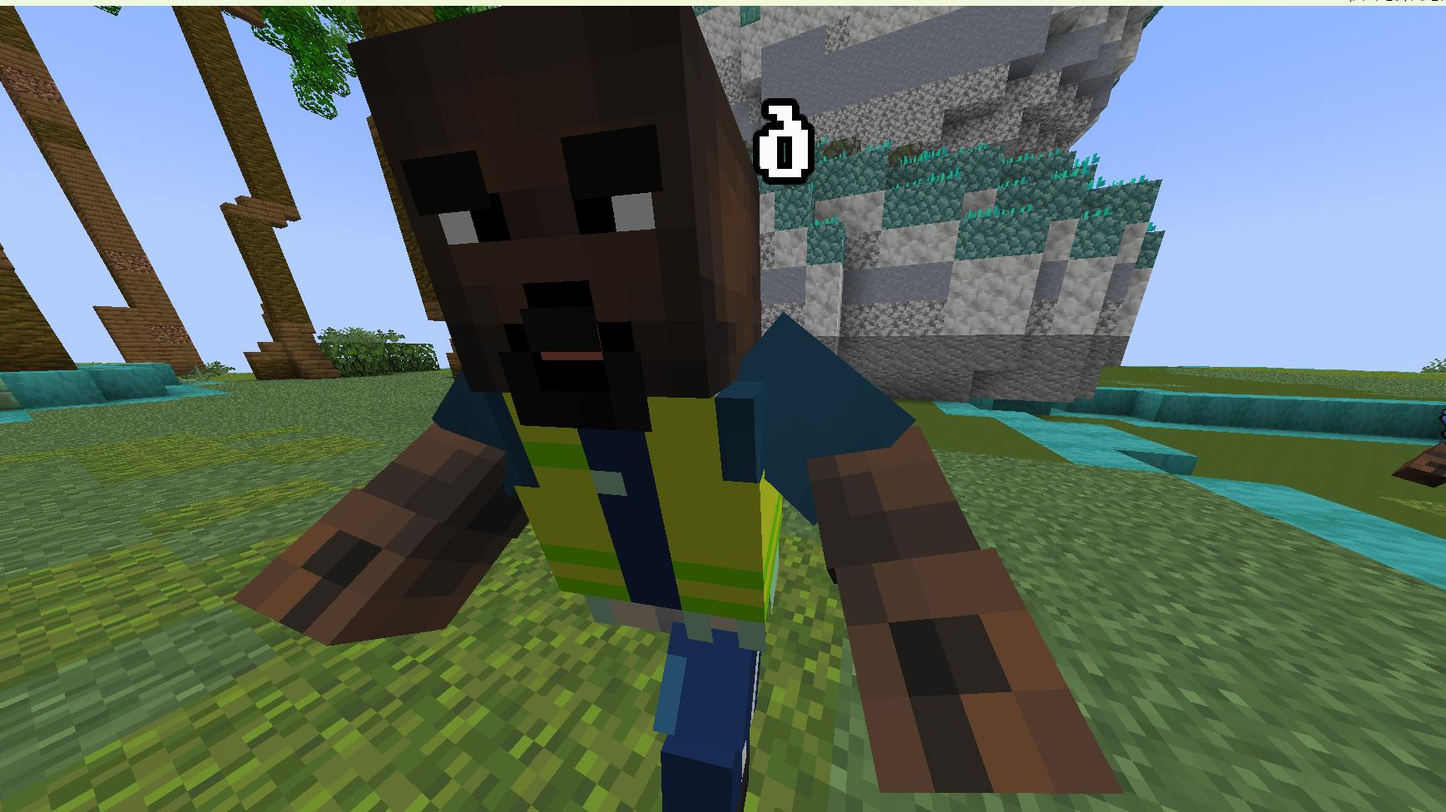Guardian: (236, 7, 1120, 812)
